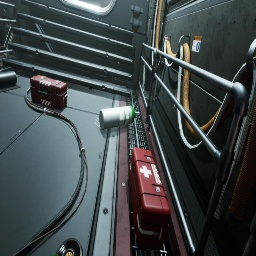0: (99, 106, 140, 130), (49, 255, 58, 256)
FirstAidBox ,: (128, 147, 171, 250), (30, 75, 67, 110)
